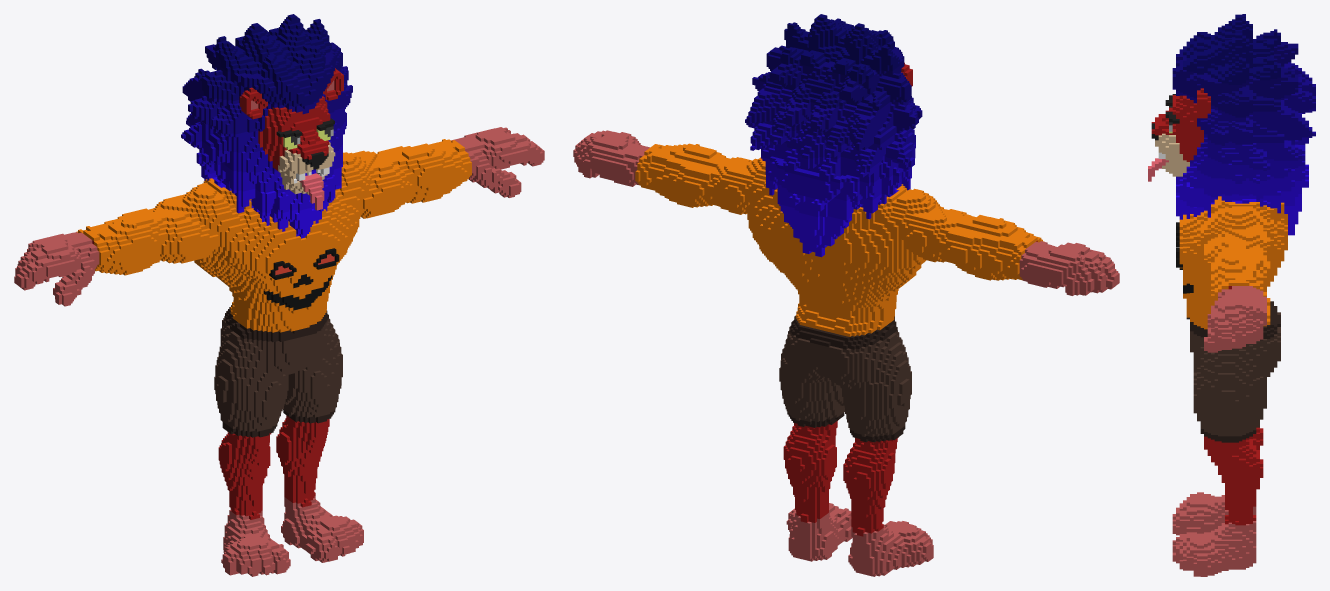
The picture shows the model from 3 angles, left to right: view 1: azimuth 30°, elevation 25°; view 2: azimuth 150°, elevation 25°; view 3: azimuth 270°, elevation 25°; orthographic projection. The views are drawn at different scales.
Parts seen in each view (by area): view 1: tongue_out; view 2: tongue_out; view 3: tongue_out.
Part boxes in pixels (bbox=[...]): tongue_out: bbox=[14, 14, 544, 576]; tongue_out: bbox=[573, 14, 1119, 576]; tongue_out: bbox=[1148, 14, 1315, 576].
Bounding box in the file's own units: 17.2 × 16.5 × 4.8.
Materials: 5 (5 with a texture image).
